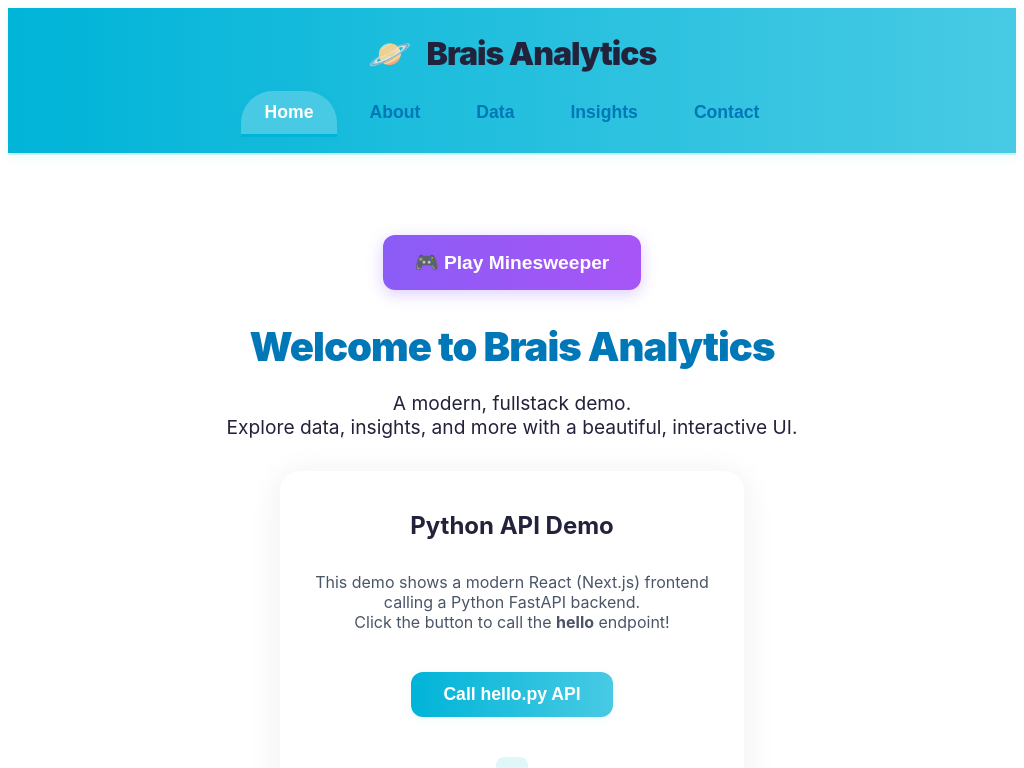
Test: Professional UI with Tabs › switches to Insights tab and shows Insights content
Step 1. Click the tab with test id "tab-insights" → click(604, 114), box [546,91,662,137]
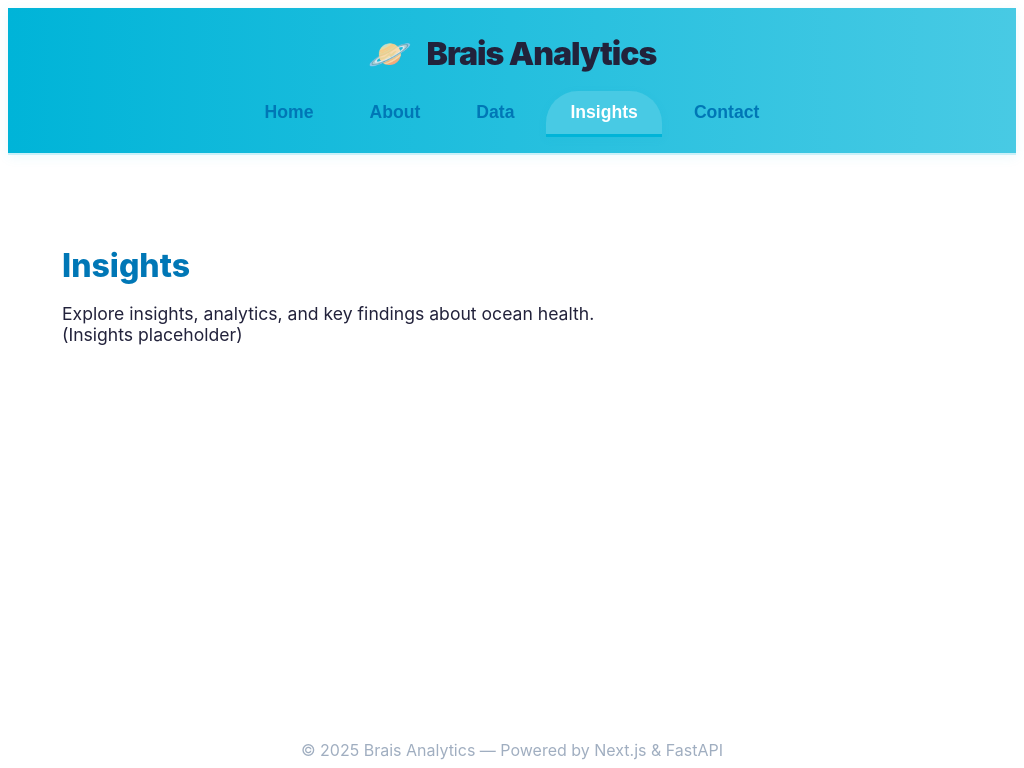
Expected: the heading "Insights" is shown, [62,246,190,285]
Expected: the text "Explore insights, analytics" is shown, [62,302,594,324]
